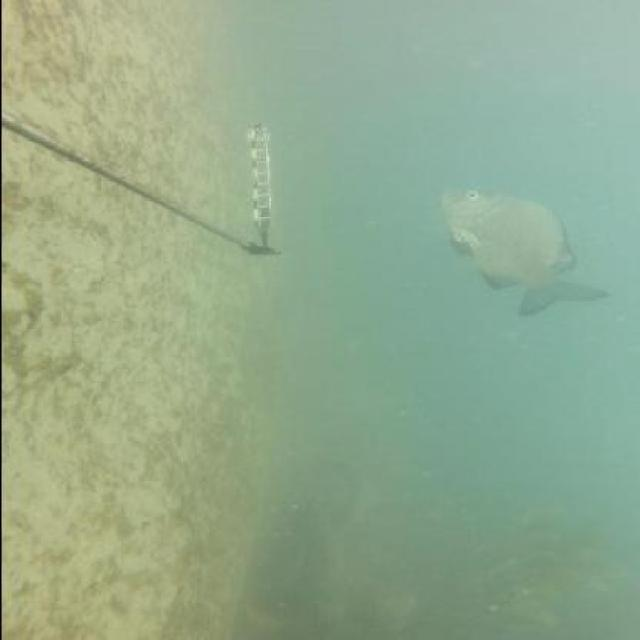acanthopagrus_palmaris: (432, 190, 611, 318)
